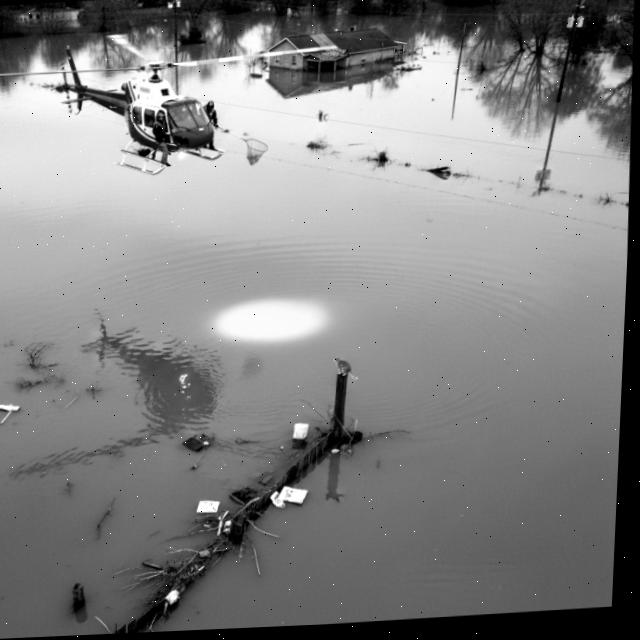cat: (326, 349, 372, 384)
rescuer: (199, 97, 228, 154), (148, 107, 175, 165)
